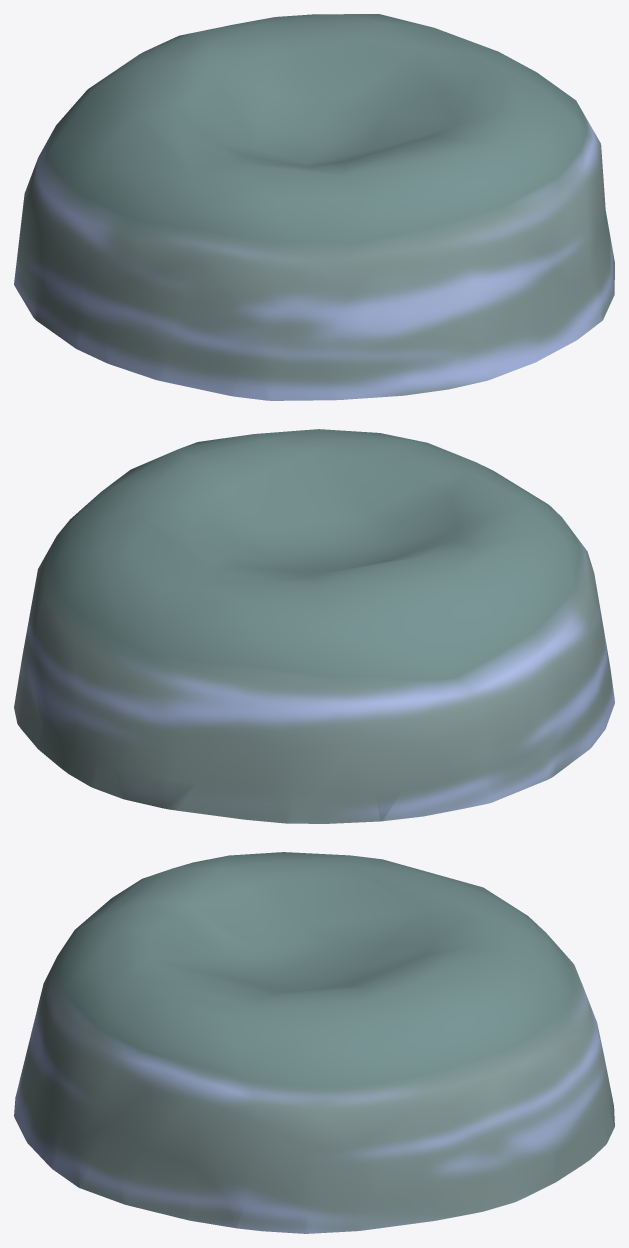
The model's file is SM_fountain_water_01.glb.
The picture shows the model from 3 angles, top to bottom: view 1: azimuth 30°, elevation 25°; view 2: azimuth 150°, elevation 25°; view 3: azimuth 270°, elevation 25°; orthographic projection.
Visible parts, largest first — view 1: SM_fountain_water_01; view 2: SM_fountain_water_01; view 3: SM_fountain_water_01.
Part boxes in pixels (x1,y1,x2,y2): SM_fountain_water_01: (14, 14, 614, 400); SM_fountain_water_01: (14, 429, 614, 823); SM_fountain_water_01: (14, 852, 614, 1233).
Size of the model in its own units: 1.53 by 0.5179 by 1.55.
Materials: 1 (1 with a texture image).
